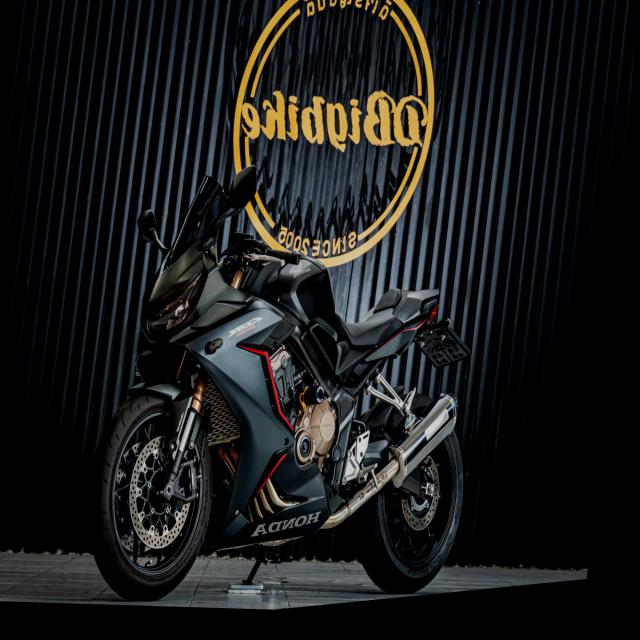CBR650R: (82, 140, 506, 631)
